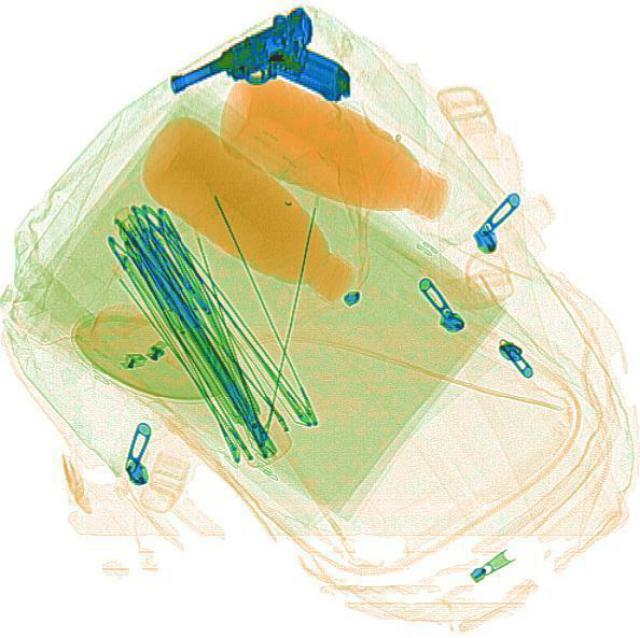Gun: (159, 0, 359, 161)
